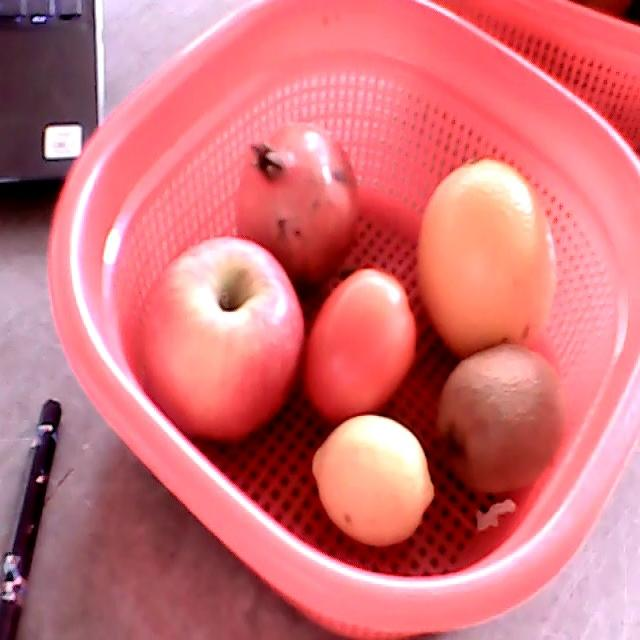apple: (137, 236, 306, 440)
kiwi: (432, 343, 569, 494)
lemon: (310, 411, 437, 547)
orange: (419, 153, 557, 356)
pomegranate: (236, 123, 360, 281)
tomato: (304, 268, 416, 419)
